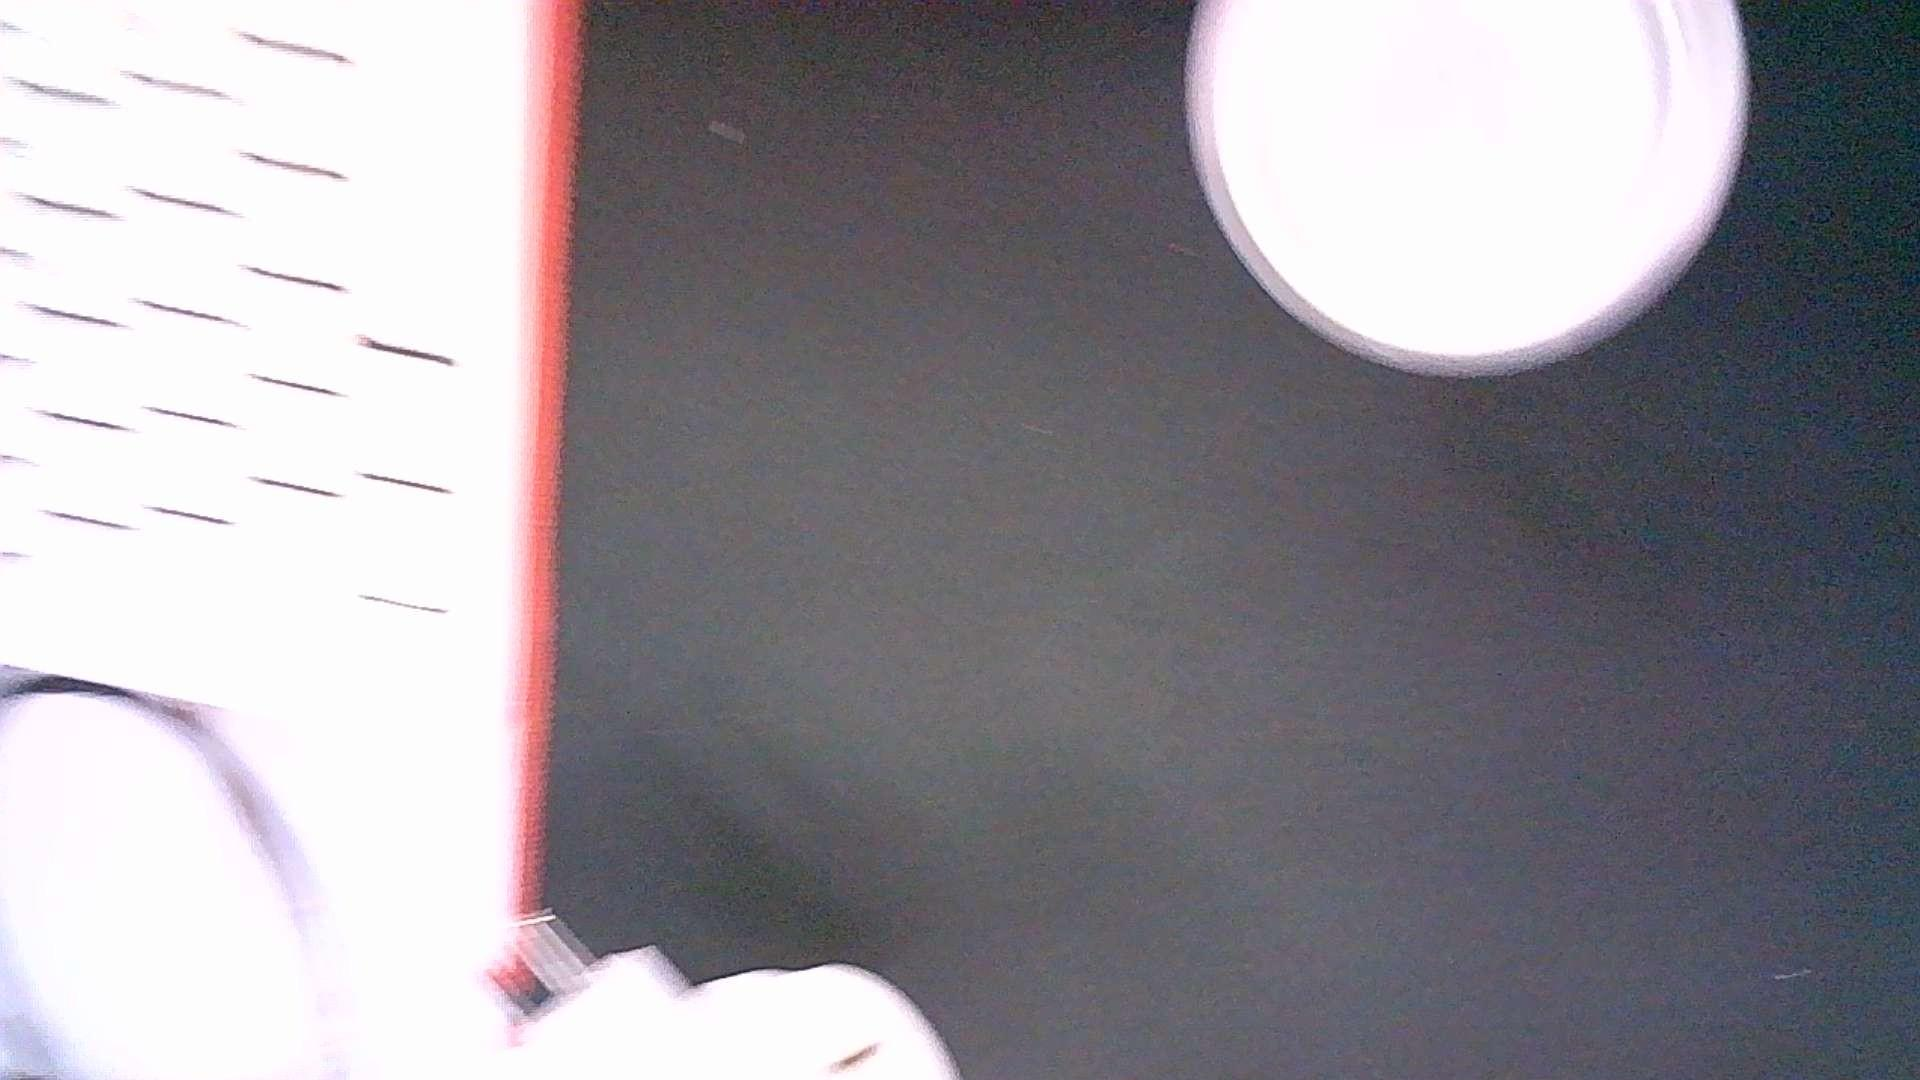letsbe: (1187, 0, 1751, 375)
